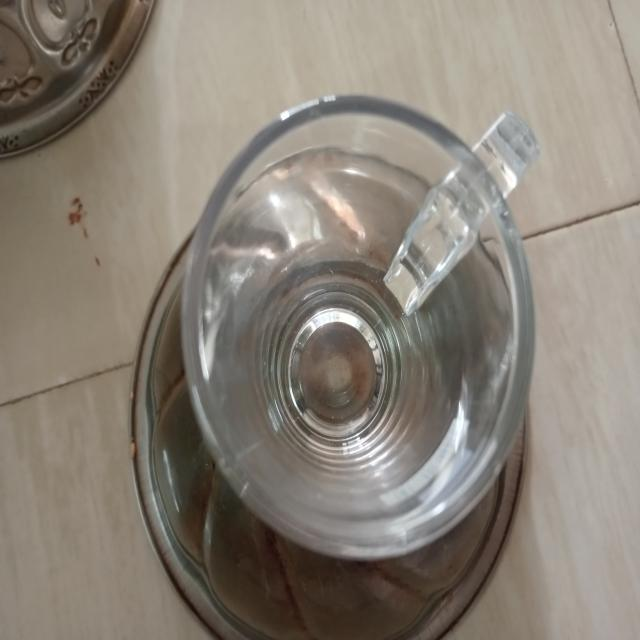glass-VX4N: (180, 93, 537, 568)
